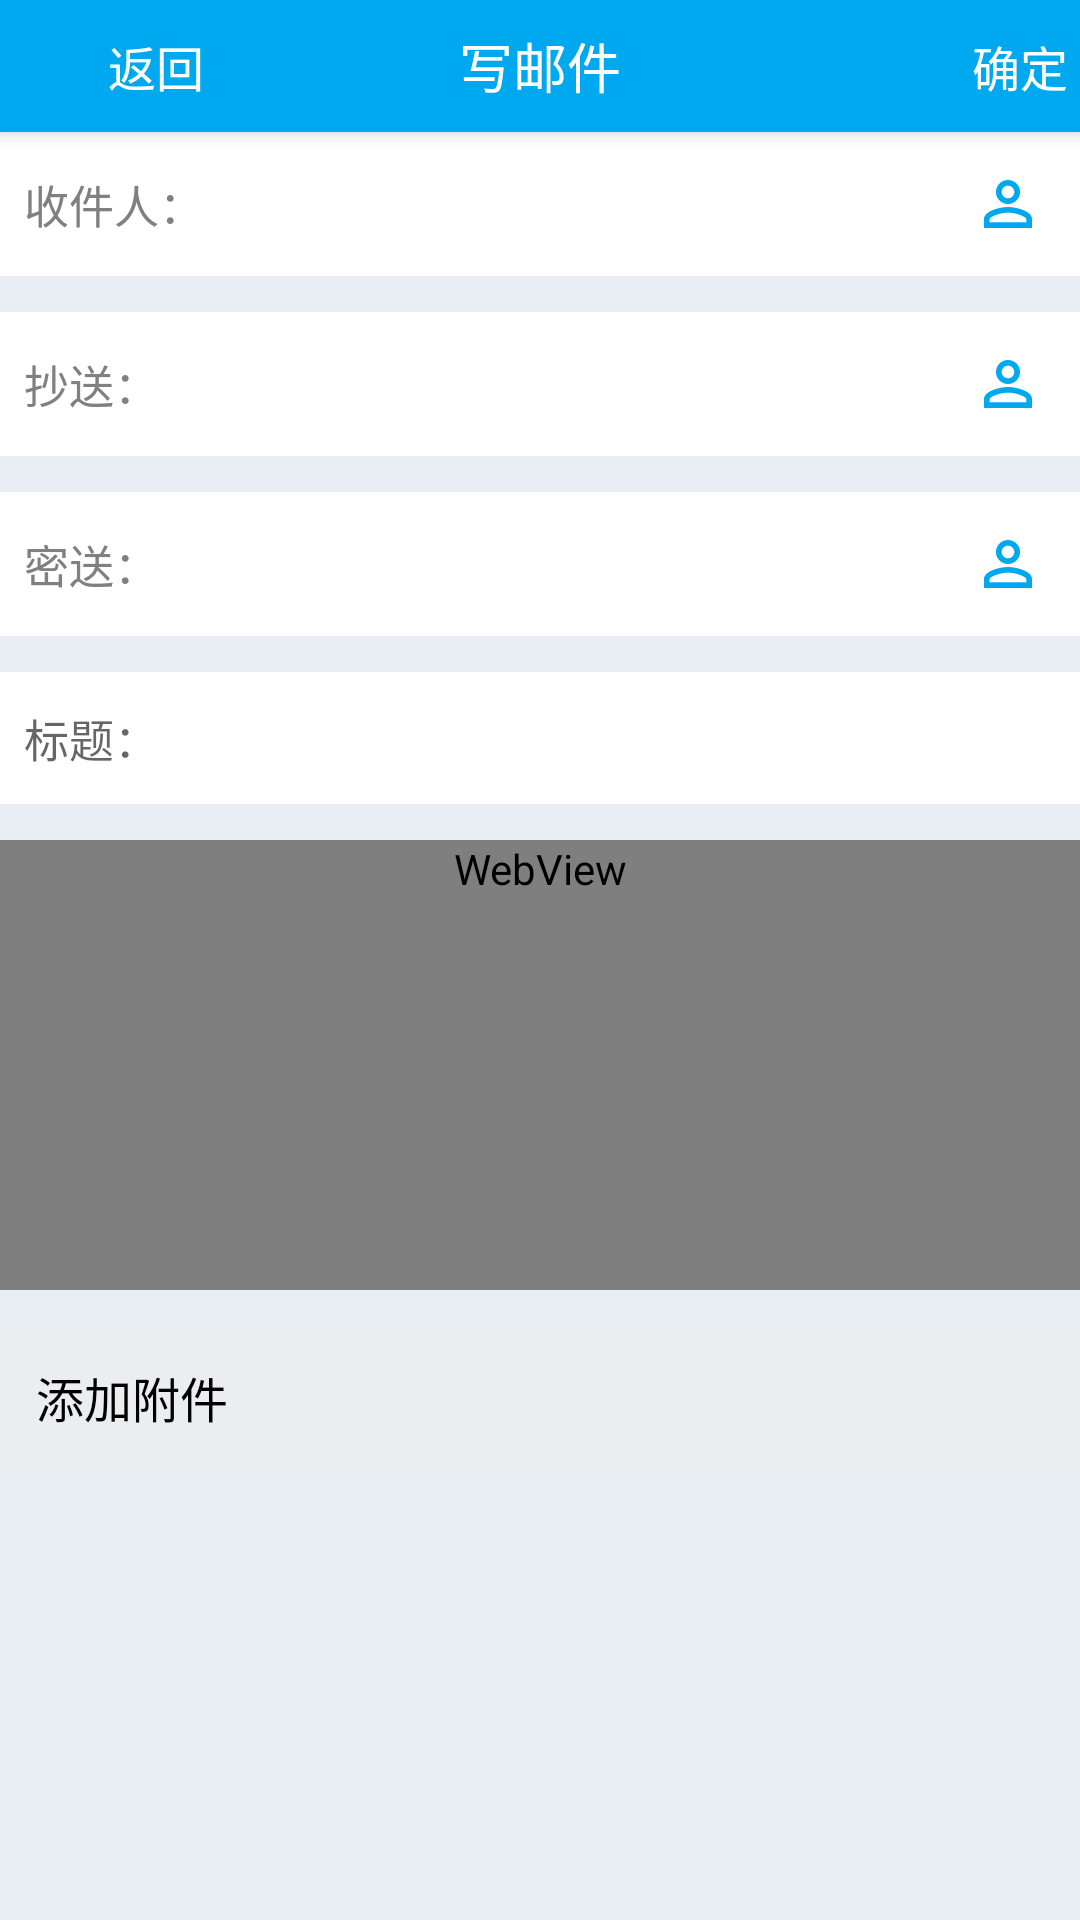

Screen size 1080*1920. Icon name, then its box in pixels as (x1, y1, x2, y2):
perm identity: (984, 180, 1032, 228), (984, 360, 1032, 408), (984, 540, 1032, 588)
